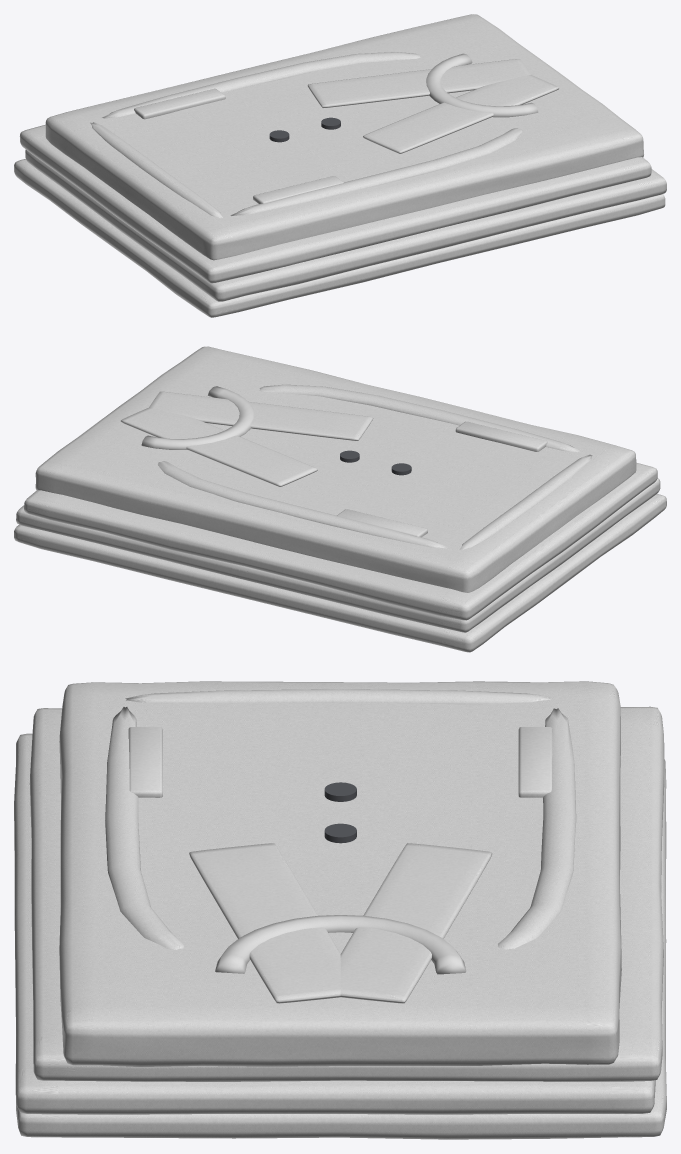
File: blazer.glb
3 views of the same model, one above another, from view 1: azimuth 30°, elevation 25°; view 2: azimuth 150°, elevation 25°; view 3: azimuth 270°, elevation 25° (orthographic). The views are drawn at different scales.
Visible parts, largest first — view 1: blazer_layer, blazer_fold2, blazer_fold1, blazer_fold0, blazer_lapel-1, blazer_lapel1, blazer_sleeve-1, blazer_sleeve1, blazer_collar, blazer_hem, blazer_flap1, blazer_flap-1; view 2: blazer_layer, blazer_fold2, blazer_fold0, blazer_fold1, blazer_lapel1, blazer_lapel-1, blazer_sleeve1, blazer_sleeve-1, blazer_collar, blazer_hem, blazer_flap-1, blazer_flap1; view 3: blazer_layer, blazer_fold2, blazer_fold1, blazer_fold0, blazer_lapel1, blazer_lapel-1, blazer_sleeve-1, blazer_sleeve1, blazer_hem, blazer_collar, blazer_flap1, blazer_flap-1.
Boxes of the visible parts, <box> form: blazer_layer: <box>45,14,643,260</box>; blazer_fold2: <box>19,124,651,283</box>; blazer_fold1: <box>25,149,666,301</box>; blazer_fold0: <box>14,159,665,317</box>; blazer_lapel-1: <box>363,75,558,153</box>; blazer_lapel1: <box>307,59,530,107</box>; blazer_sleeve-1: <box>230,128,522,215</box>; blazer_sleeve1: <box>102,52,420,118</box>; blazer_collar: <box>426,53,538,117</box>; blazer_hem: <box>90,122,222,218</box>; blazer_flap1: <box>134,88,225,119</box>; blazer_flap-1: <box>253,176,343,203</box>; blazer_layer: <box>35,346,636,592</box>; blazer_fold2: <box>24,462,657,620</box>; blazer_fold0: <box>14,494,666,652</box>; blazer_fold1: <box>16,478,660,632</box>; blazer_lapel1: <box>120,407,317,486</box>; blazer_lapel-1: <box>149,391,373,440</box>; blazer_sleeve1: <box>157,461,447,548</box>; blazer_sleeve-1: <box>259,384,581,452</box>; blazer_collar: <box>141,386,254,449</box>; blazer_hem: <box>459,454,592,550</box>; blazer_flap-1: <box>455,421,547,451</box>; blazer_flap1: <box>337,509,427,537</box>; blazer_layer: <box>59,681,621,1066</box>; blazer_fold2: <box>29,706,664,1081</box>; blazer_fold1: <box>14,733,655,1114</box>; blazer_fold0: <box>16,759,666,1139</box>; blazer_lapel1: <box>340,843,492,1003</box>; blazer_lapel-1: <box>189,843,340,1003</box>; blazer_sleeve-1: <box>105,707,184,949</box>; blazer_sleeve1: <box>498,708,576,949</box>; blazer_hem: <box>125,689,551,704</box>; blazer_collar: <box>215,915,466,974</box>; blazer_flap1: <box>518,727,552,797</box>; blazer_flap-1: <box>128,727,162,797</box>.
Bounding box in the file's own units: 40.13 × 6.42 × 30.12.
2 materials, 1 textured.
